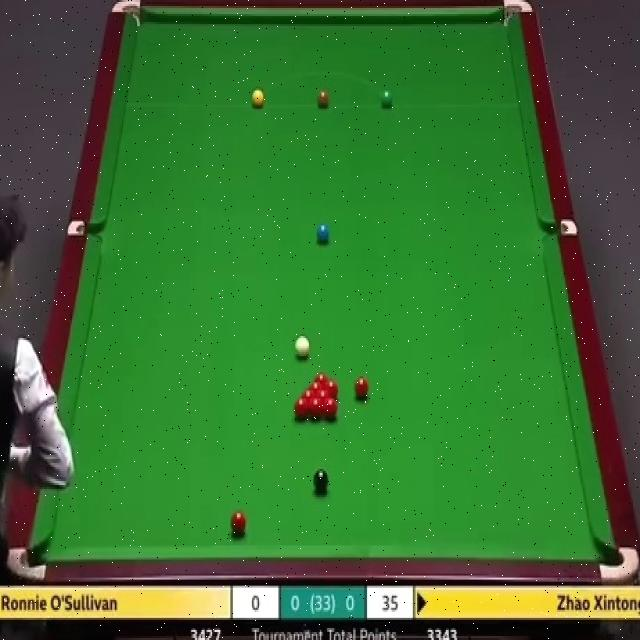black-ball: (314, 468, 328, 490)
blue-ball: (316, 222, 329, 249)
brown-ball: (316, 89, 329, 108)
green-ball: (381, 89, 394, 108)
red-ball: (229, 510, 249, 536), (354, 374, 371, 398), (293, 396, 310, 418), (322, 396, 338, 418), (310, 395, 322, 418), (323, 380, 338, 398), (315, 388, 331, 400), (307, 381, 323, 391), (314, 372, 328, 383), (302, 389, 315, 399)
white-ball: (295, 336, 312, 359)
yellow-ball: (251, 89, 264, 108)
